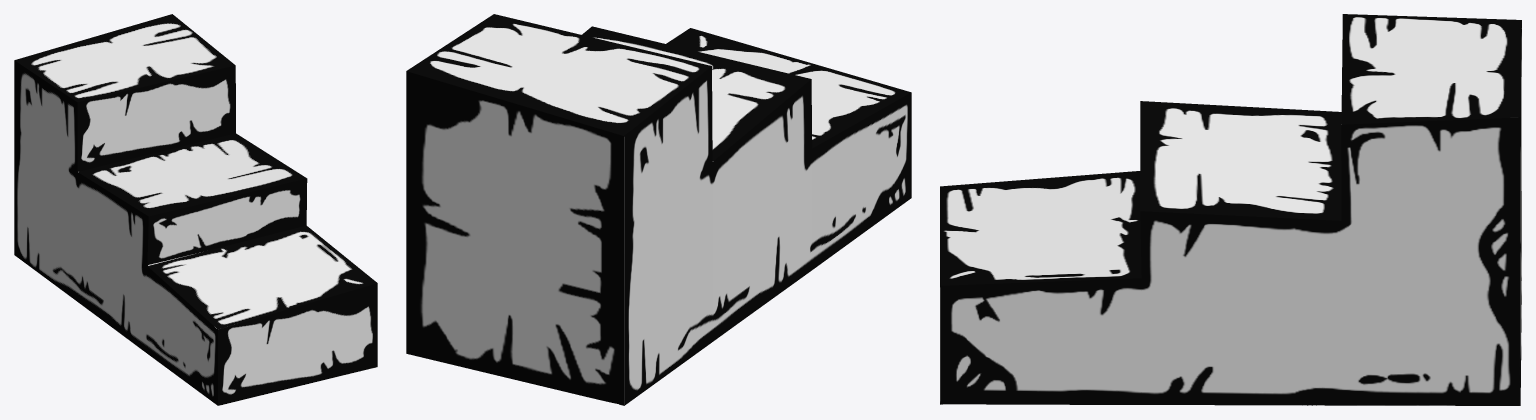
Rendered from Stairs_Textured_Rotated_V2_Embeded.fbx.
3 renders of one model, left to right at view 1: azimuth 30°, elevation 25°; view 2: azimuth 150°, elevation 25°; view 3: azimuth 270°, elevation 25°, orthographic. The views are drawn at different scales.
Visible parts, largest first — view 1: Stufe 1.001; view 2: Stufe 1.001; view 3: Stufe 1.001.
Part boxes in pixels (x1,y1,x2,y2): Stufe 1.001: [14, 14, 377, 405]; Stufe 1.001: [406, 14, 911, 405]; Stufe 1.001: [940, 14, 1521, 405].
Size of the model in its own units: 48.07 by 58.6 by 107.
